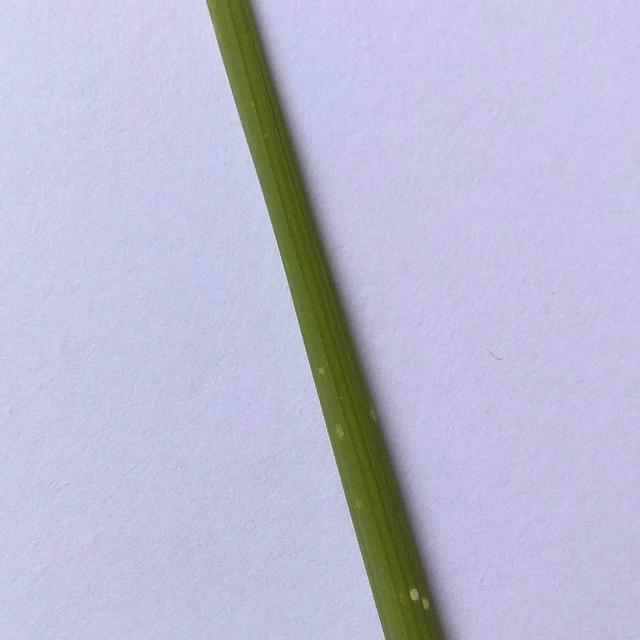Blast: (406, 586, 432, 616)
